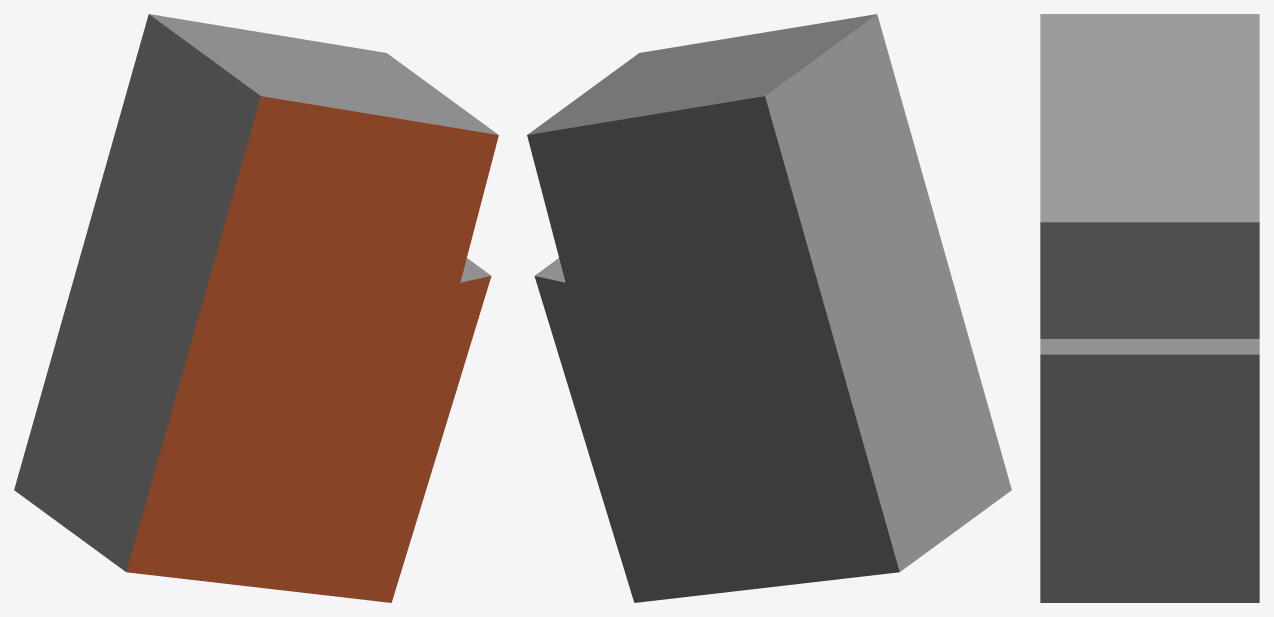
The model's file is construction_3006_assumed_A_Casa_h6m.obj.
3 renders of one model, left to right at view 1: azimuth 30°, elevation 25°; view 2: azimuth 150°, elevation 25°; view 3: azimuth 270°, elevation 25°, orthographic. The views are drawn at different scales.
Visible parts, largest first — view 1: construction_3006_assumed_A_Casa; view 2: construction_3006_assumed_A_Casa; view 3: construction_3006_assumed_A_Casa.
Boxes of the visible parts, x1,y1,x2,y2 form: construction_3006_assumed_A_Casa: (14,14,498,602); construction_3006_assumed_A_Casa: (527,14,1011,602); construction_3006_assumed_A_Casa: (1040,14,1259,602).
Size of the model in its own units: 11.51 by 15.9 by 6.
